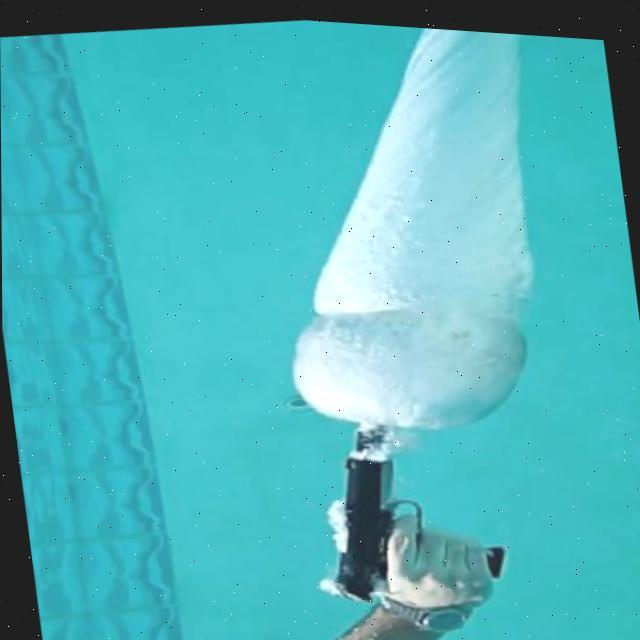gun: (310, 403, 512, 608)
